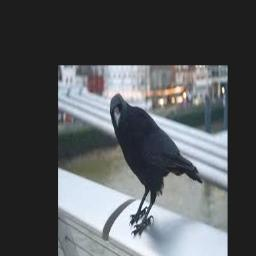Crow: (110, 94, 202, 237)
